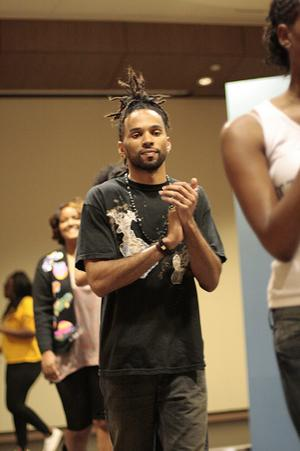person: (76, 67, 227, 451)
